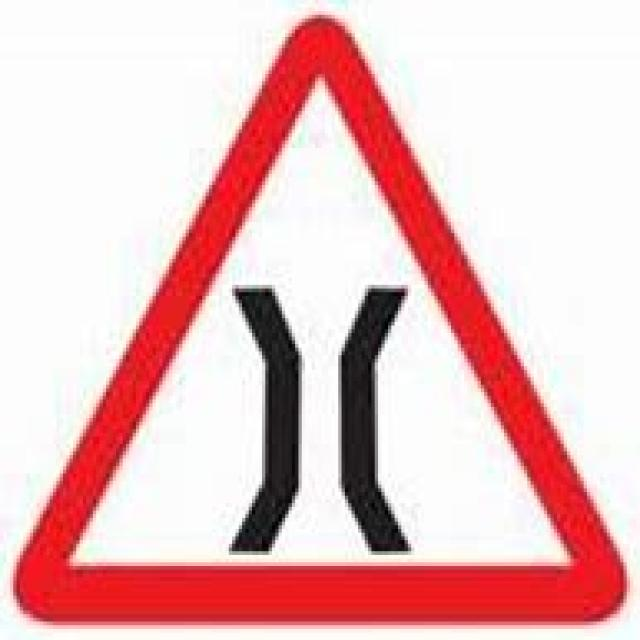NARROW_BRIDGE: (13, 17, 630, 625)
